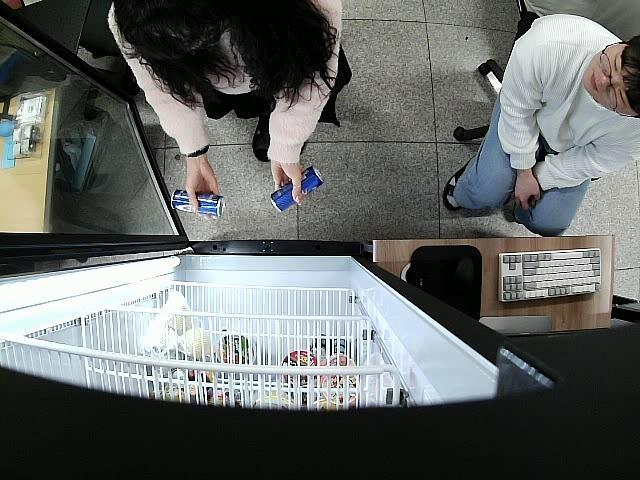16_hot6: (271, 166, 323, 210), (168, 188, 228, 220)
